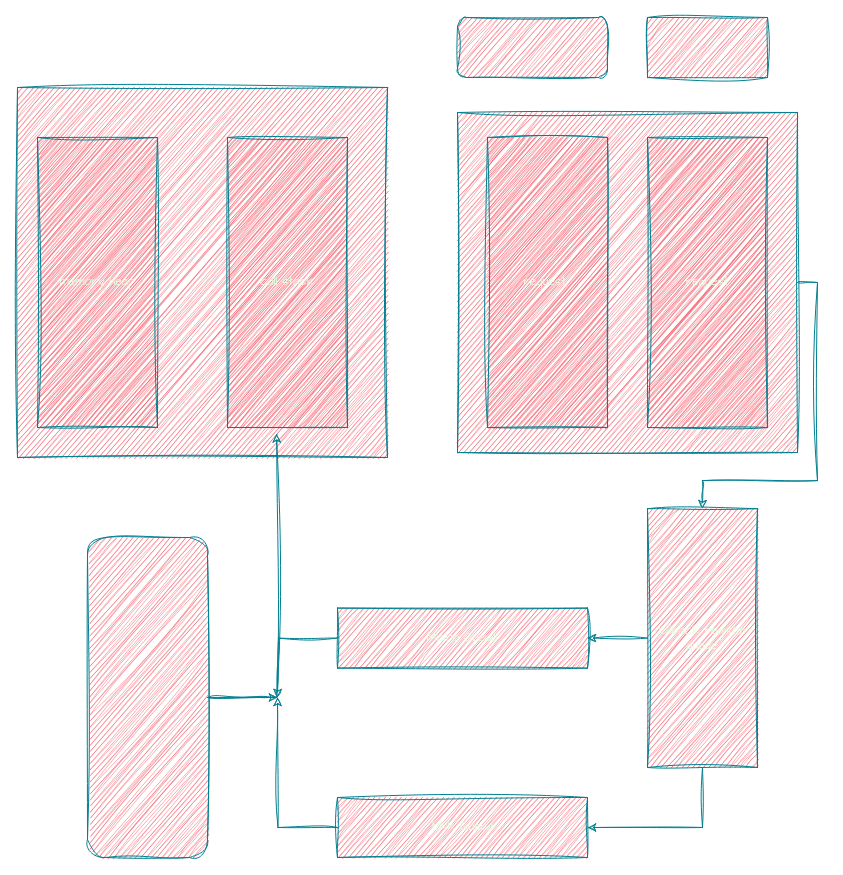
Image size: 843x875. Some labels were removed from this diagram. The centre of each missing label's shape, as x and y in pixels:
"Event Loop" goes at pixel 147 697.
"runtime environment" goes at pixel 707 47.
"web api" goes at pixel 532 47.
